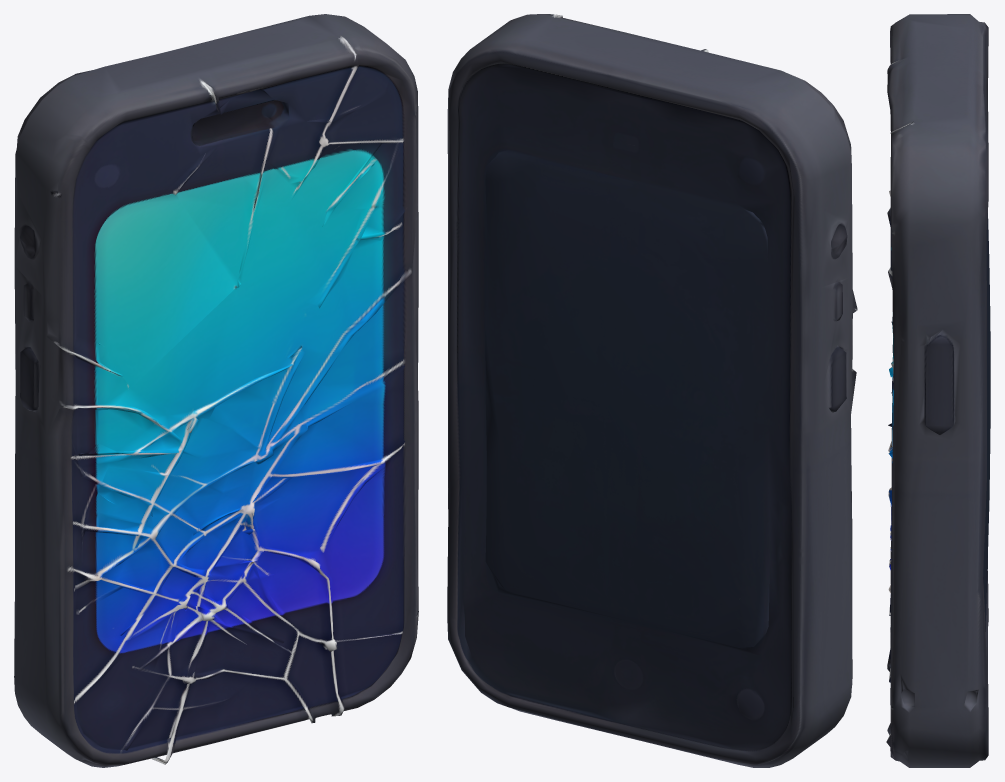
File: smartphone.glb
3 views of the same model, side by side, from view 1: azimuth 30°, elevation 25°; view 2: azimuth 150°, elevation 25°; view 3: azimuth 270°, elevation 25° (orthographic). The views are drawn at different scales.
Visible parts, largest first — view 1: tripo_node_7296d545-58d8-4817-9cf7-e5046c462656; view 2: tripo_node_7296d545-58d8-4817-9cf7-e5046c462656; view 3: tripo_node_7296d545-58d8-4817-9cf7-e5046c462656.
Boxes of the visible parts, box(x1,y1,x2,y2) form: tripo_node_7296d545-58d8-4817-9cf7-e5046c462656: box(14, 14, 418, 767); tripo_node_7296d545-58d8-4817-9cf7-e5046c462656: box(447, 14, 857, 767); tripo_node_7296d545-58d8-4817-9cf7-e5046c462656: box(886, 14, 990, 767).
Bounding box in the file's own units: 0.5738 × 0.9803 × 0.1449.
1 material, 1 textured.
